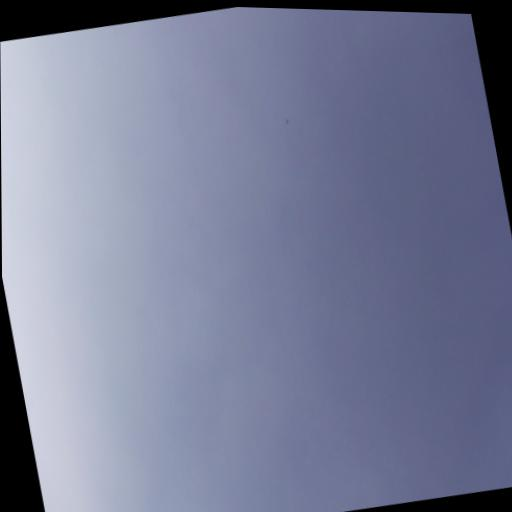drones: (284, 116, 290, 125)
